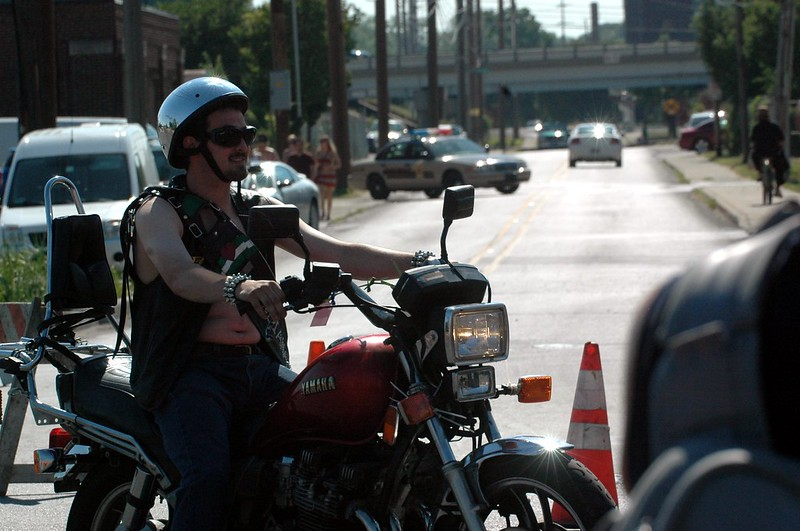helmet: (150, 78, 253, 141)
